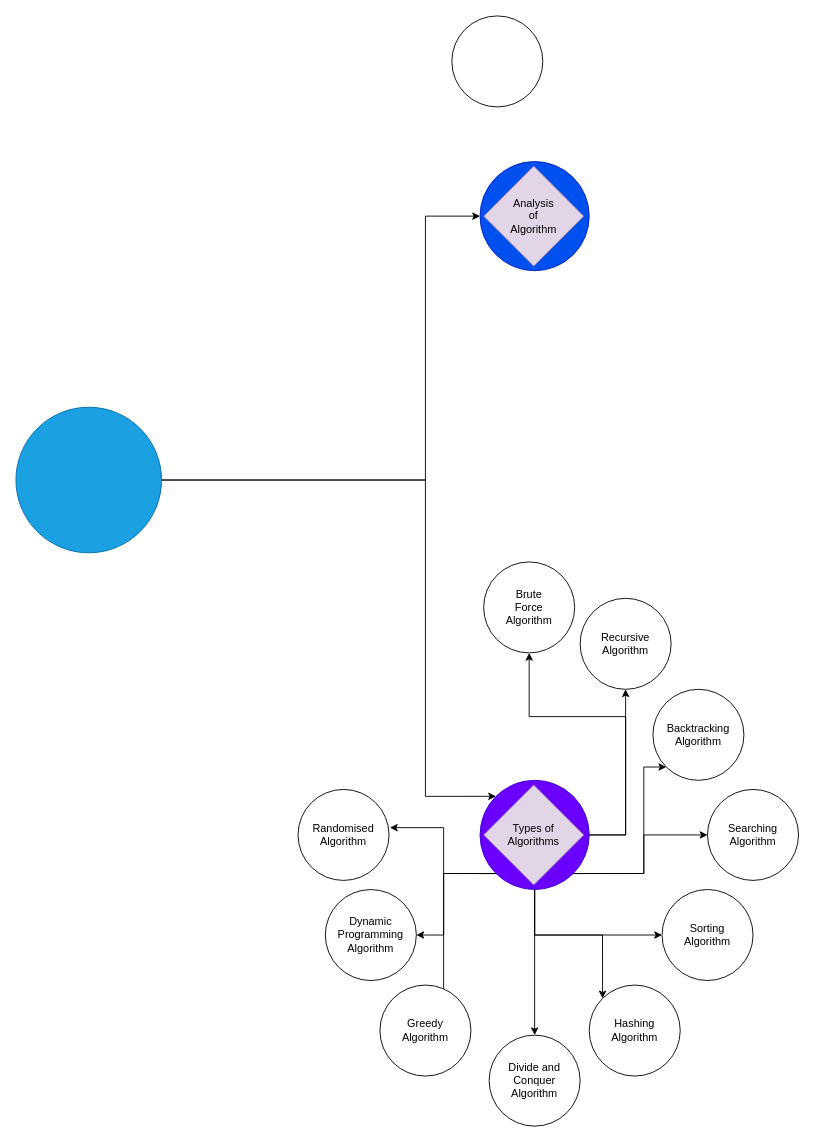
The diagram is 814 pixels wide and 1142 high, and some of its shapes have lost their labels. The box of each missing label's shape, as (x1, y1, x2, y2) in pixels:
Algorithms: (15, 406, 162, 553)
Asymptotic Notation: (451, 15, 543, 107)
